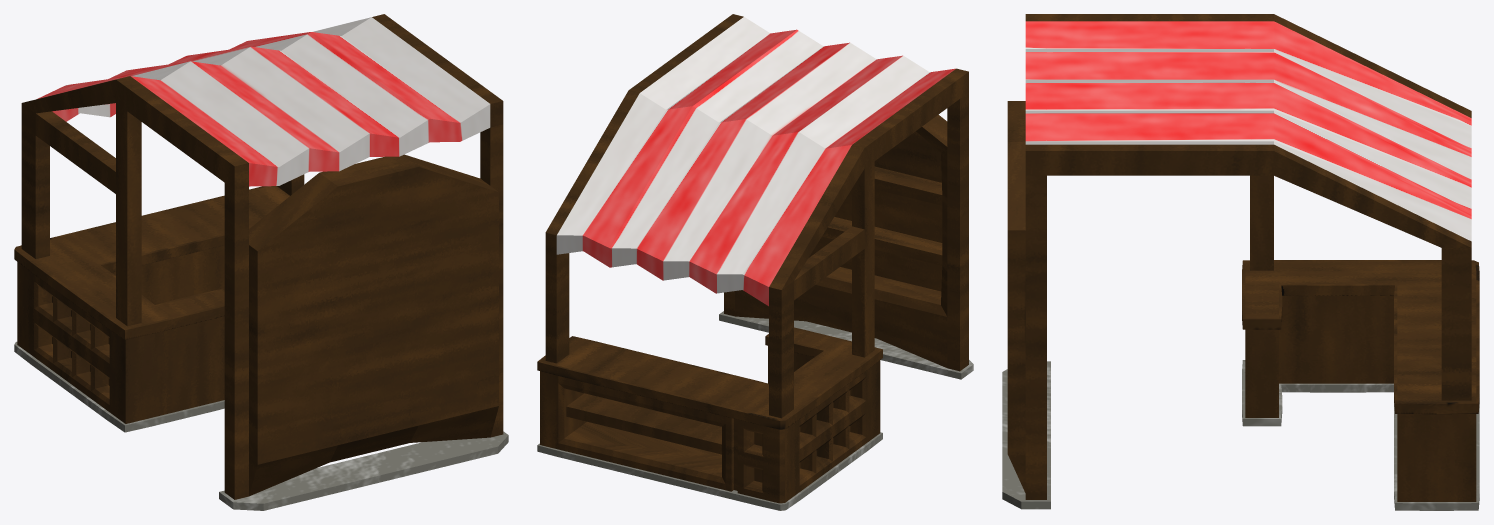
The model's file is MarketStall.fbx.
3 views of the same model, side by side, from view 1: azimuth 30°, elevation 25°; view 2: azimuth 150°, elevation 25°; view 3: azimuth 270°, elevation 25° (orthographic). The views are drawn at different scales.
Parts seen in each view (by area): view 1: MarketStand; view 2: MarketStand; view 3: MarketStand.
Boxes of the visible parts, <box> form: MarketStand: <box>14,14,508,510</box>; MarketStand: <box>537,14,973,510</box>; MarketStand: <box>1002,14,1479,510</box>.
Size of the model in its own units: 5.05 by 5.83 by 7.08.
Materials: 1 (1 with a texture image).
